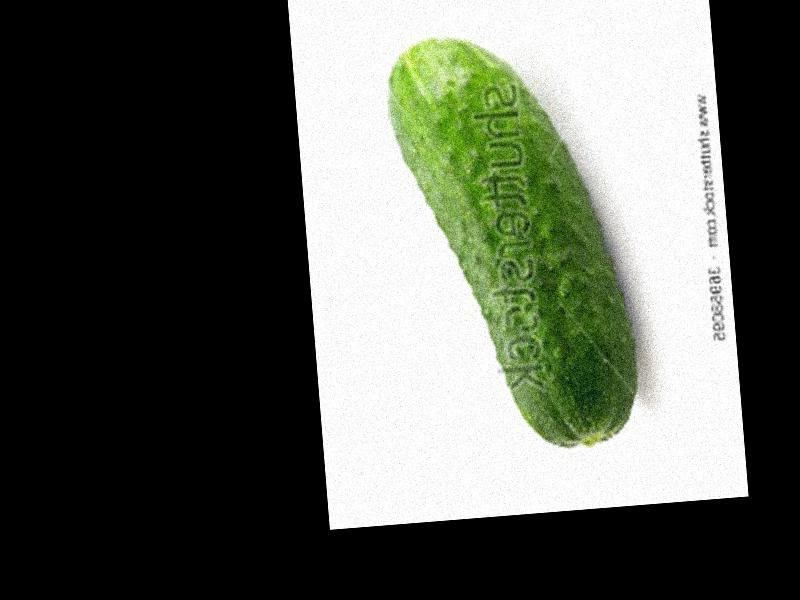Cucumber: (382, 25, 644, 458)
